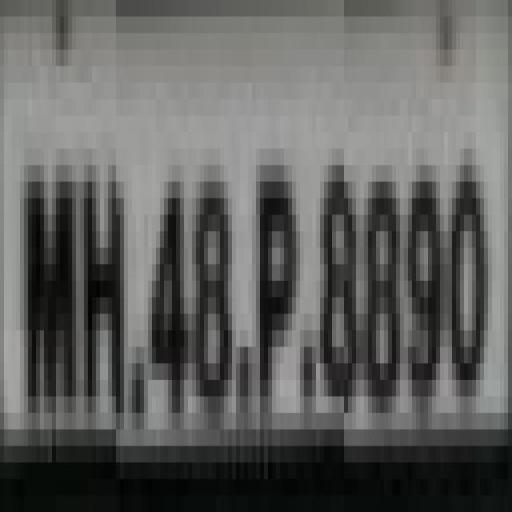number plate: (16, 16, 512, 463)
